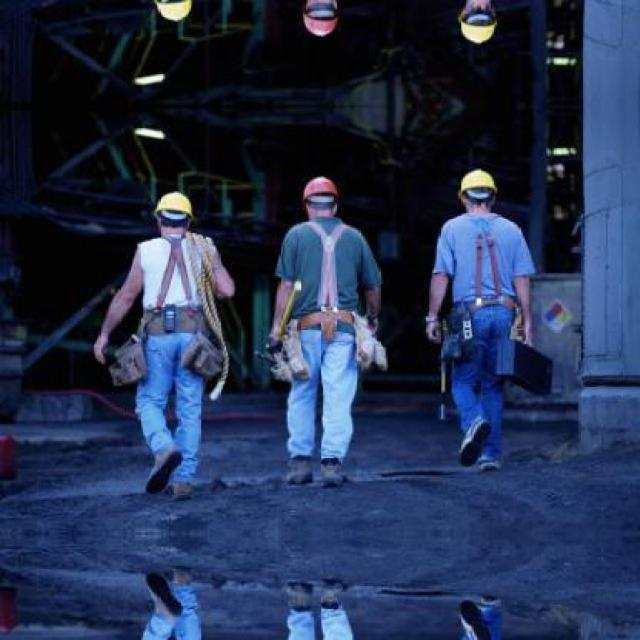helmet: (152, 184, 196, 244), (298, 168, 342, 225), (455, 164, 499, 217), (454, 0, 500, 49), (297, 0, 343, 45), (151, 0, 197, 29)
